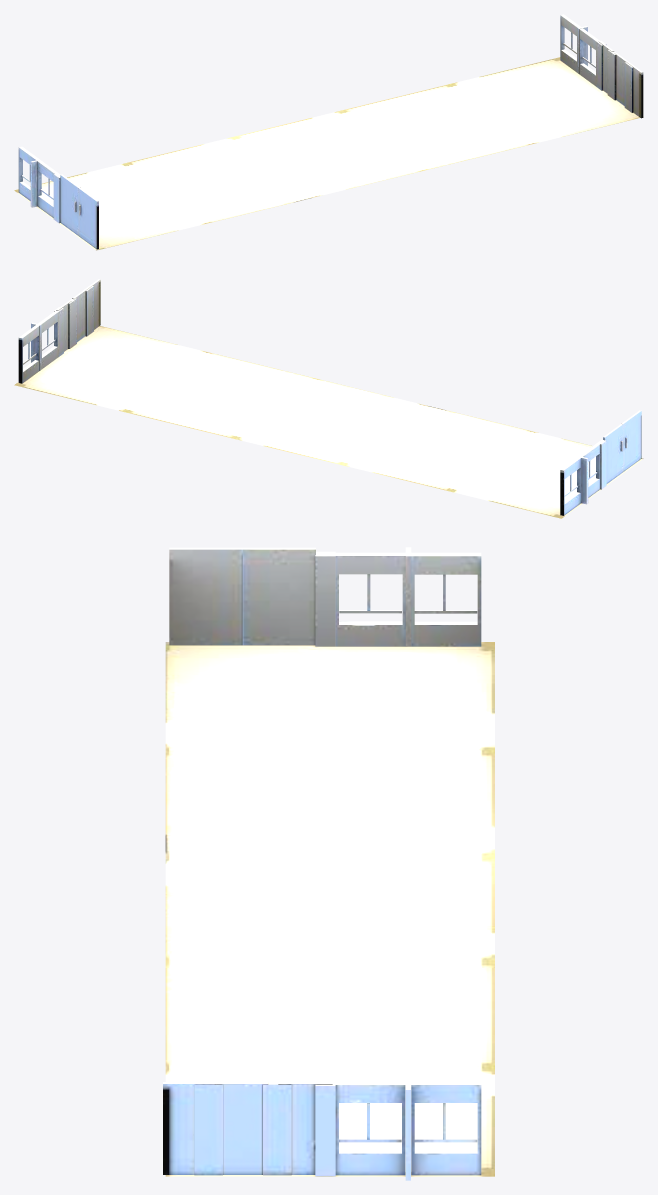
3 renders of one model, top to bottom at view 1: azimuth 30°, elevation 25°; view 2: azimuth 150°, elevation 25°; view 3: azimuth 270°, elevation 25°, orthographic. The views are drawn at different scales.
Parts seen in each view (by area): view 1: hb_1floor_zhongting (1)_0; view 2: hb_1floor_zhongting (1)_0; view 3: hb_1floor_zhongting (1)_0.
Boxes of the visible parts, x1,y1,x2,y2 form: hb_1floor_zhongting (1)_0: [14, 14, 643, 250]; hb_1floor_zhongting (1)_0: [14, 279, 643, 518]; hb_1floor_zhongting (1)_0: [163, 547, 494, 1180].
Bounding box in the file's own units: 4.7 × 0.388 × 1.22.
1 material, 1 textured.
